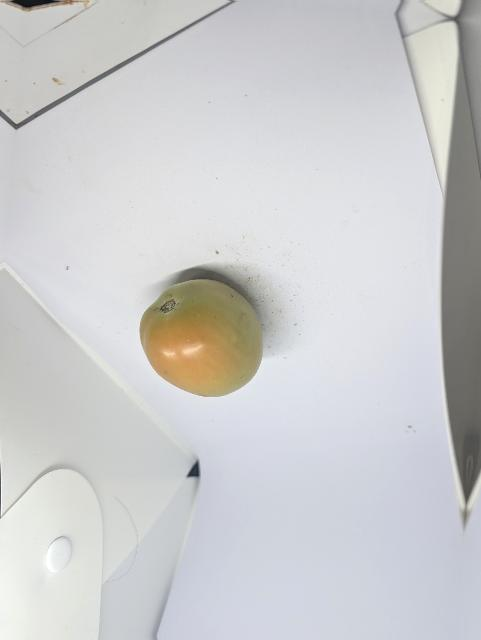breaker: (140, 279, 263, 396)
